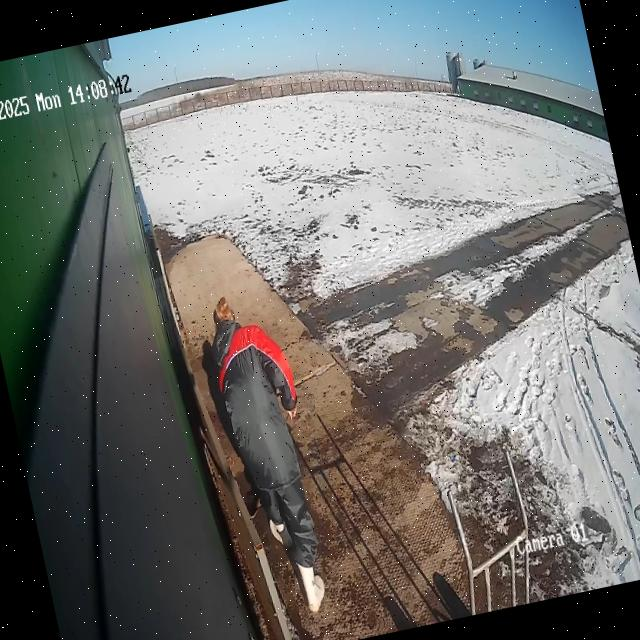Red uniform: (204, 314, 334, 580)
